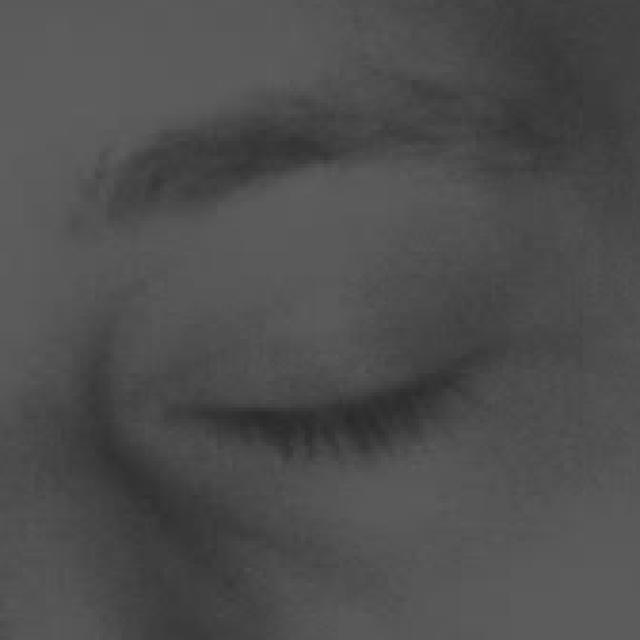Eyeclosed: (174, 241, 493, 574)
